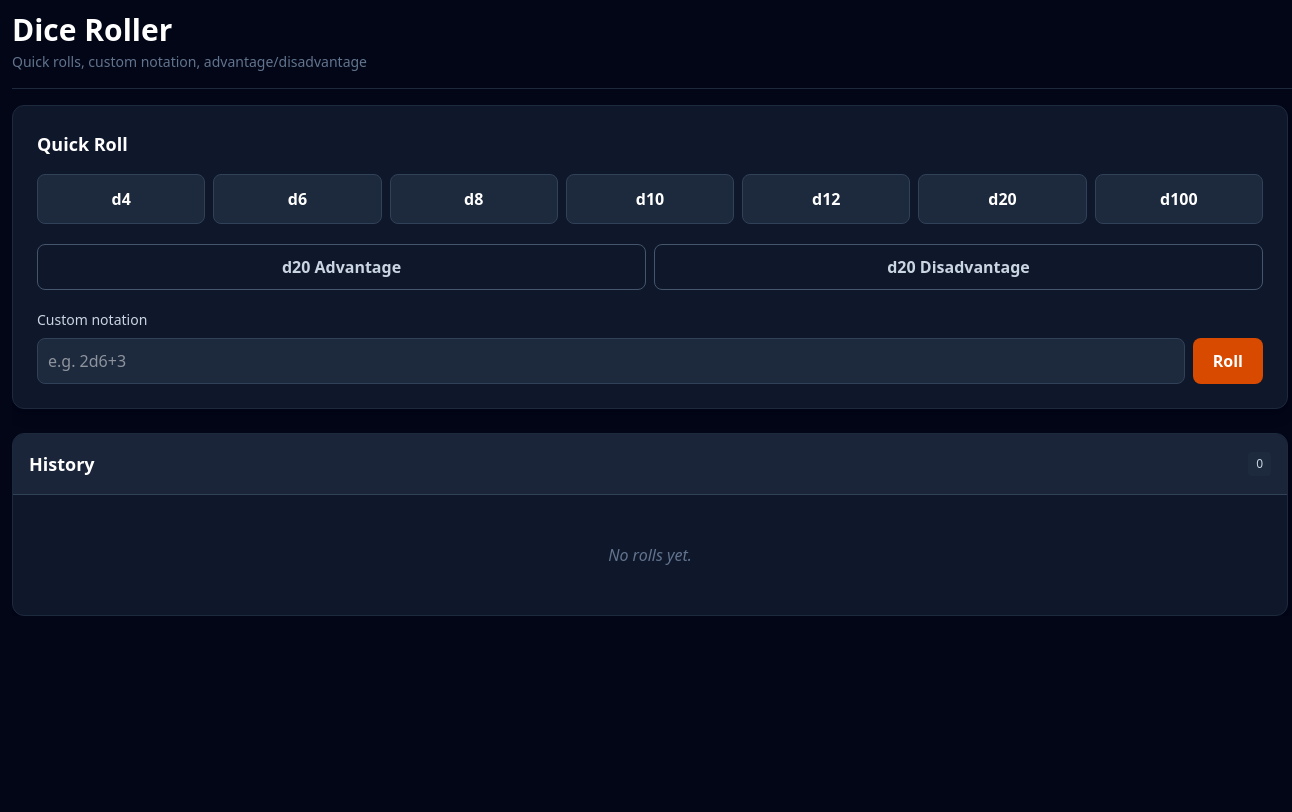
Test case: DiceRollerView › clears the error once the user edits the notation field again
The image size is (1292, 812).
Type "bad" into the field labelled "Custom notation".
click(611, 361); type("bad")  # box 37,338 -> 1185,384
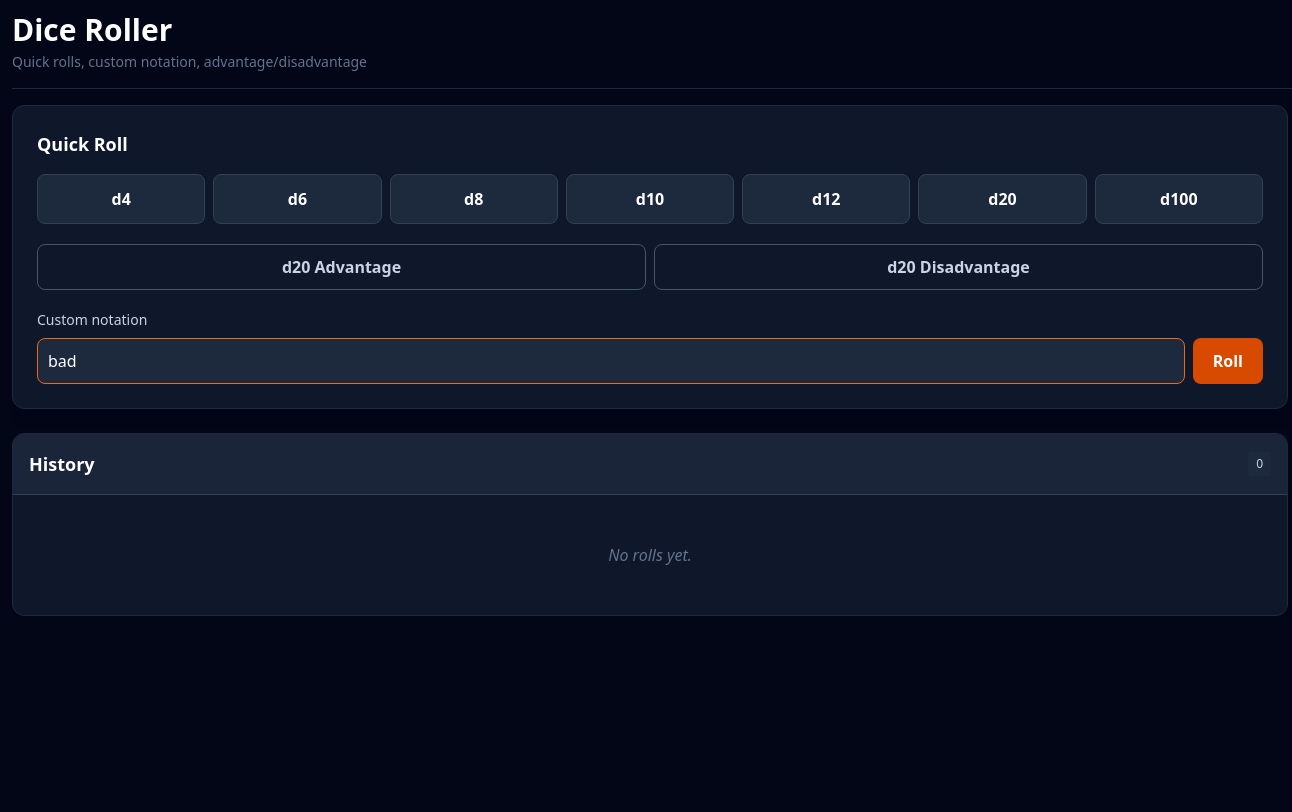
Click the button "Roll".
click(1228, 361)  # box 1193,338 -> 1263,384
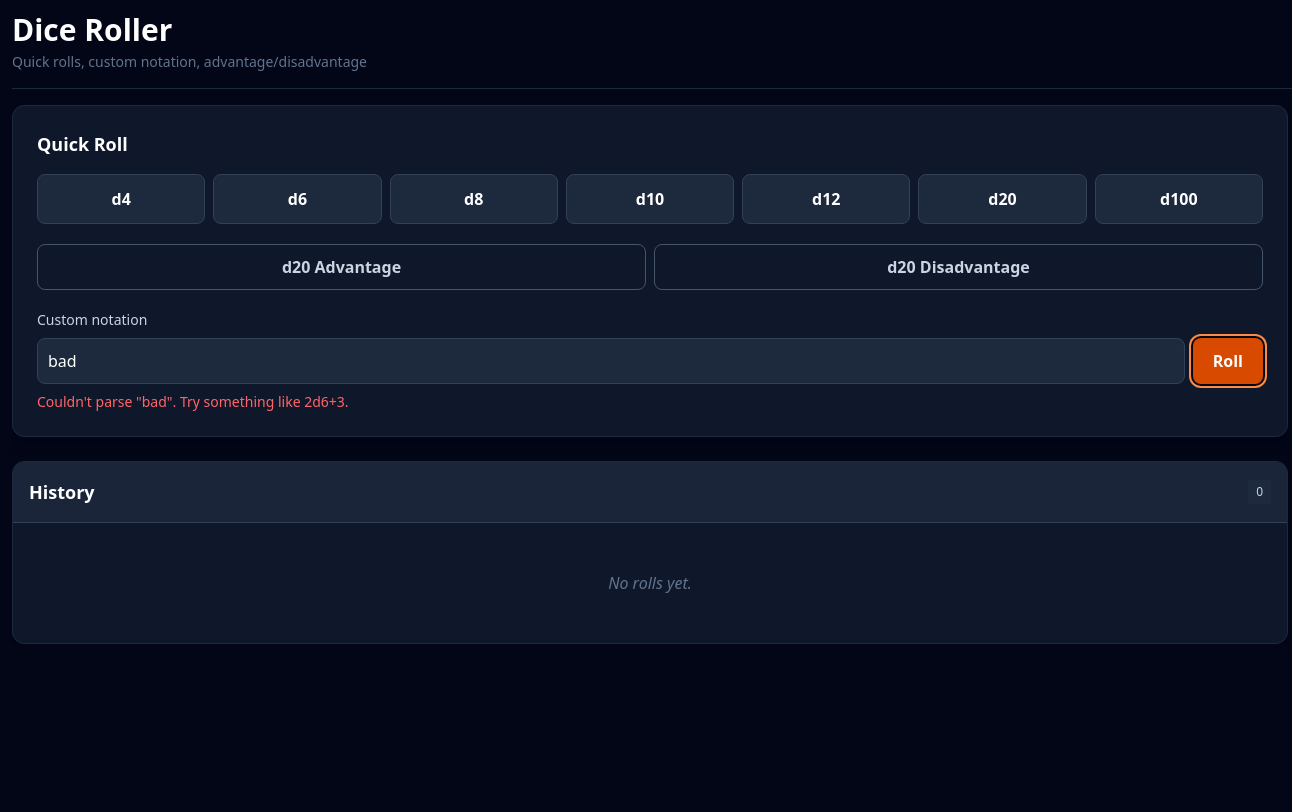
Result: the text "Couldn't parse \"bad\". Try something like 2d6+3." is shown at 37,392 -> 349,411
Type "x" into the field labelled "Custom notation".
click(611, 361); type("x")  # box 37,338 -> 1185,384
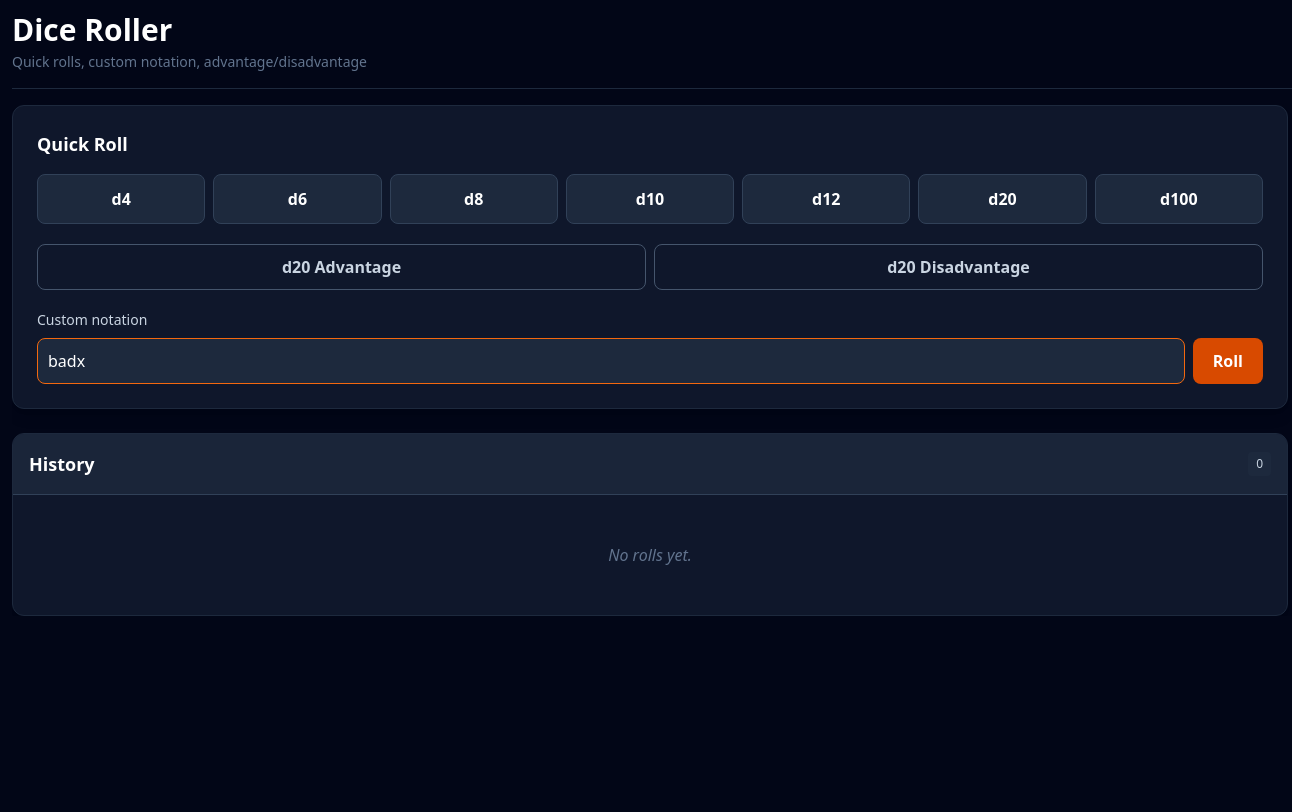
Result: the text "Couldn't parse" is gone
